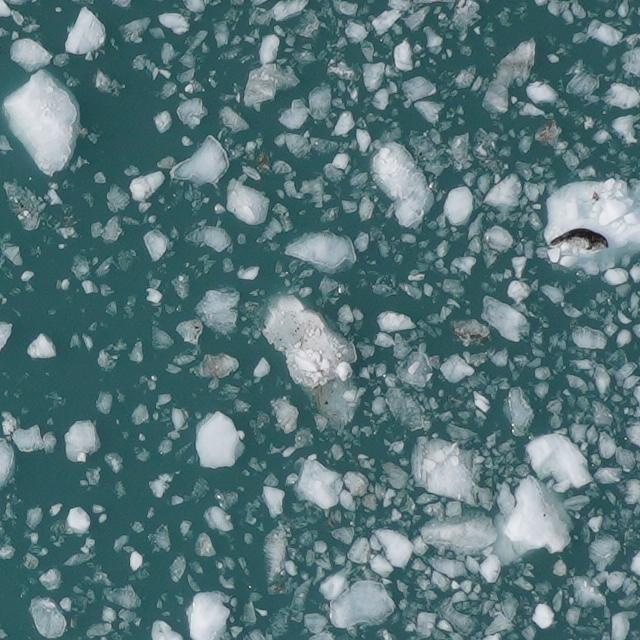seal: (548, 227, 608, 251)
